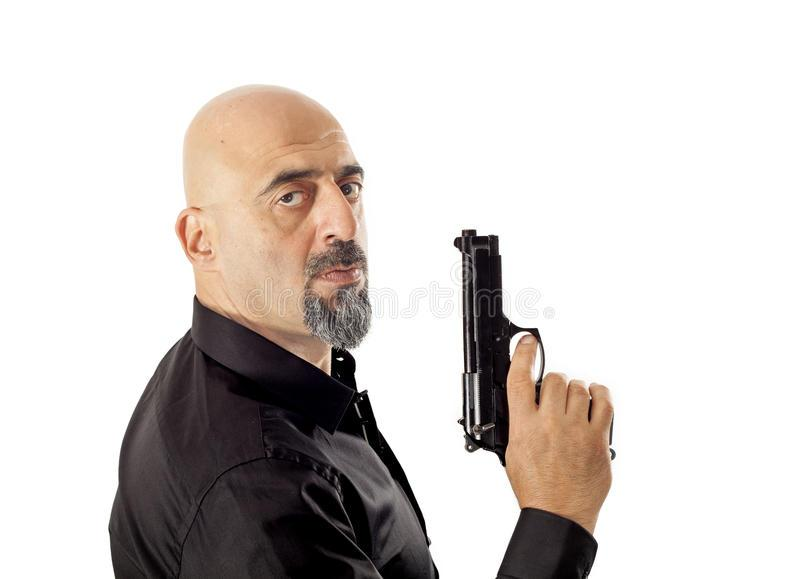criminal: (105, 80, 624, 579)
weapon: (449, 222, 622, 471)
